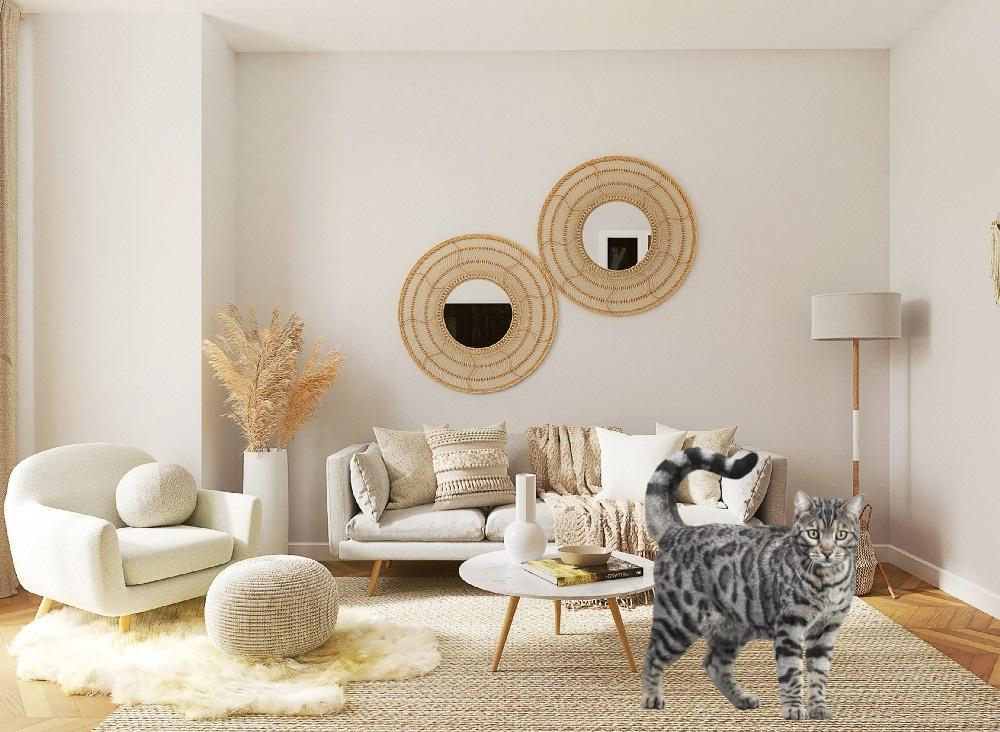cat: (600, 432, 900, 732)
